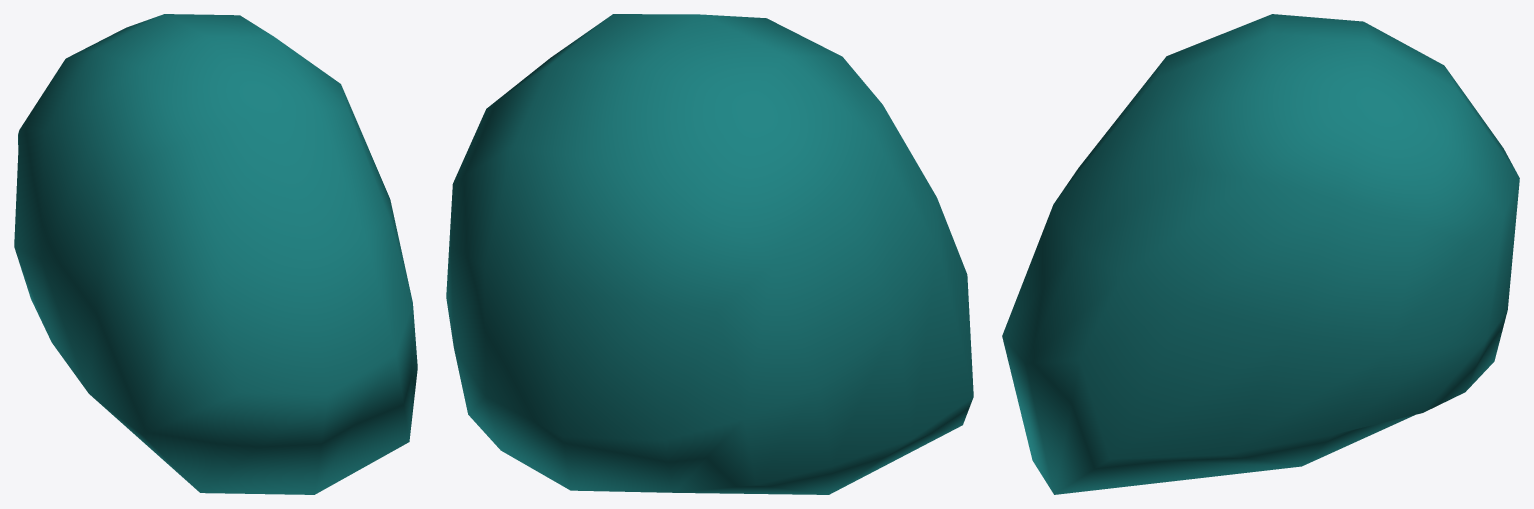
Rendered from rugby_helmet_collider.fbx.
The picture shows the model from 3 angles, left to right: view 1: azimuth 30°, elevation 25°; view 2: azimuth 150°, elevation 25°; view 3: azimuth 270°, elevation 25°; orthographic projection. The views are drawn at different scales.
Parts seen in each view (by area): view 1: rugby_helmet_collider; view 2: rugby_helmet_collider; view 3: rugby_helmet_collider.
Boxes of the visible parts, x1,y1,x2,y2 form: rugby_helmet_collider: (14, 14, 417, 494); rugby_helmet_collider: (446, 14, 973, 494); rugby_helmet_collider: (1002, 14, 1519, 494).
Bounding box in the file's own units: 32.86 × 37.47 × 41.16.
